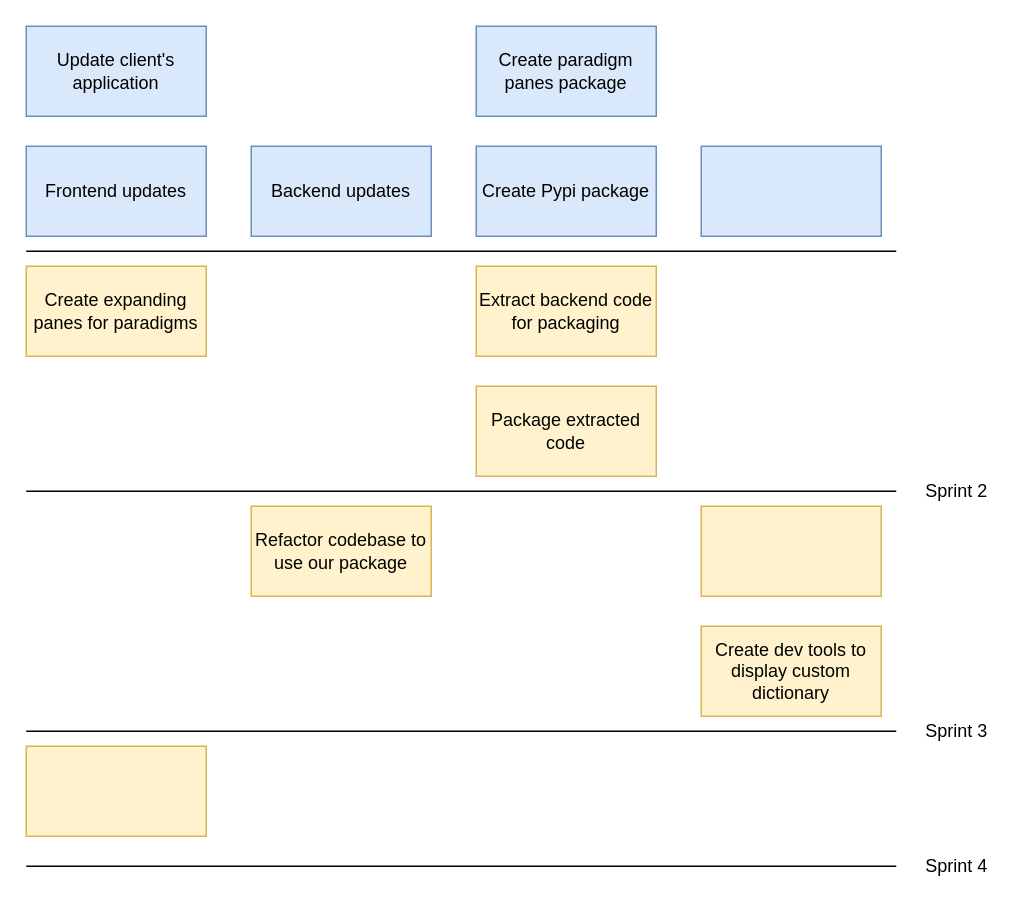
Some shapes in this 1028 by 908 pixel diagram are drawn without their labels. The centre of each missing label's shape, as x and y in pixels:
"Create displays with custom dictionary" goes at point 790,550.
"Create package implementation tools" goes at point 790,190.
"Display client's live server like development guide" goes at point 115,790.
